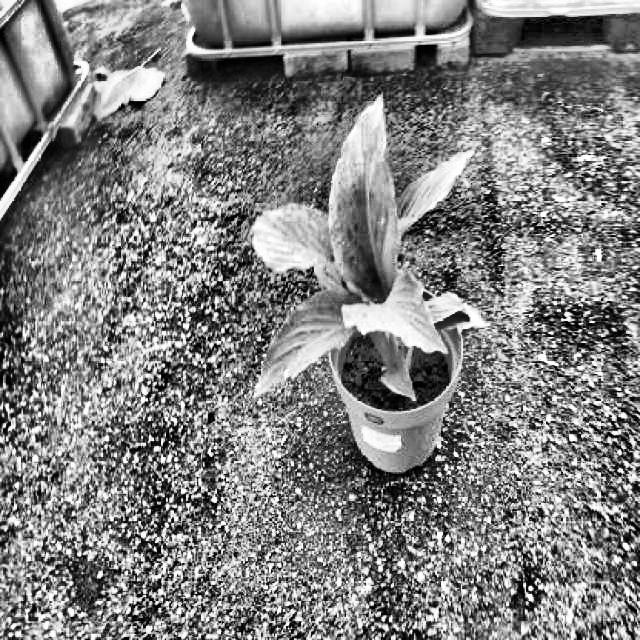plants: (254, 98, 488, 402)
